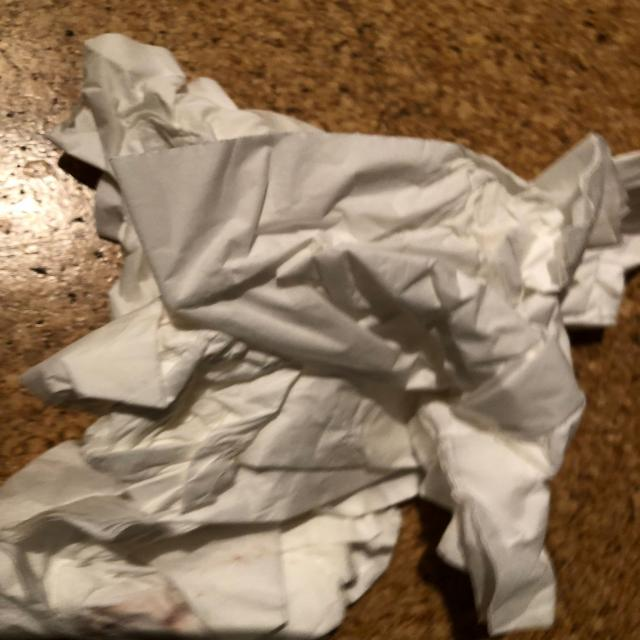kitchen paper: (108, 129, 627, 640), (35, 29, 640, 404), (0, 401, 410, 640)
